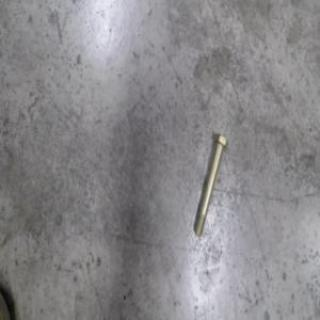Bolttrack_idkeyframe: (191, 131, 227, 237)
